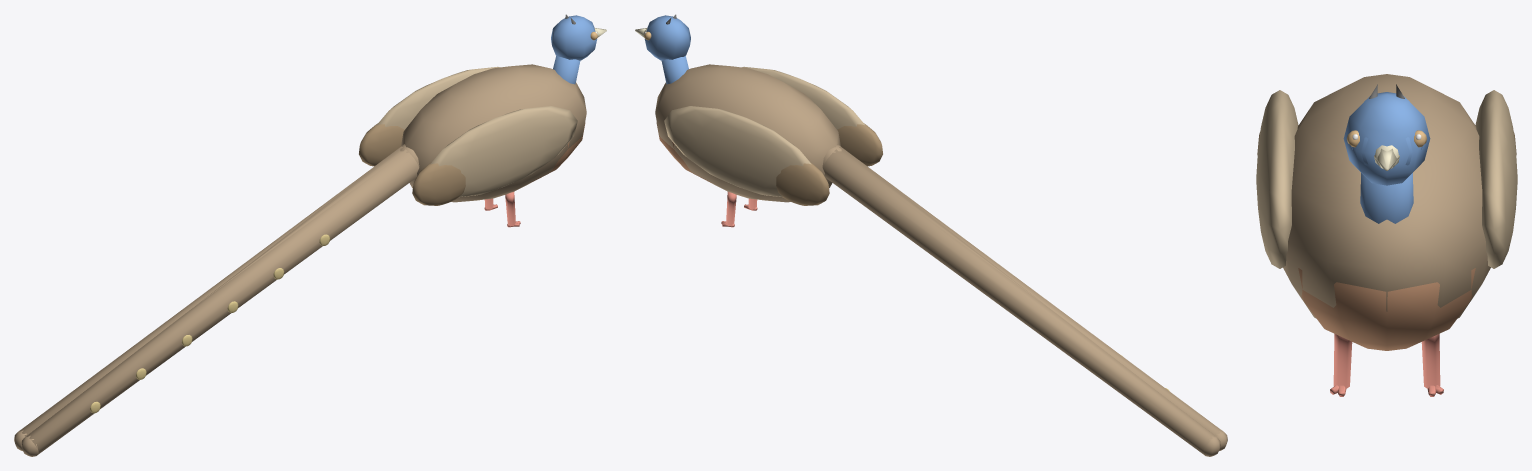
File: great-argus.glb
The picture shows the model from 3 angles, left to right: view 1: azimuth 30°, elevation 25°; view 2: azimuth 150°, elevation 25°; view 3: azimuth 270°, elevation 25°; orthographic projection. The views are drawn at different scales.
Visible parts, largest first — view 1: e, e.002, e.004, cone; view 2: e, e.004, e.002, cone; view 3: e, cone, e.002, e.004, e.016, limb.002, limb.006.
Boxes of the visible parts, left/top/right/bottom form: e: left=14, top=64, right=586, bottom=456; e.002: left=412, top=106, right=577, bottom=205; e.004: left=359, top=66, right=499, bottom=166; cone: left=551, top=14, right=606, bottom=60; e: left=655, top=64, right=1227, bottom=456; e.004: left=664, top=106, right=829, bottom=205; e.002: left=742, top=66, right=882, bottom=166; cone: left=635, top=14, right=690, bottom=60; e: left=1283, top=74, right=1490, bottom=350; cone: left=1343, top=84, right=1430, bottom=185; e.002: left=1256, top=90, right=1298, bottom=268; e.004: left=1475, top=90, right=1517, bottom=268; e.016: left=1360, top=173, right=1413, bottom=223; limb.002: left=1330, top=334, right=1352, bottom=396; limb.006: left=1421, top=334, right=1443, bottom=396.
Bounding box in the file's own units: 1.6 × 0.7946 × 0.308.
